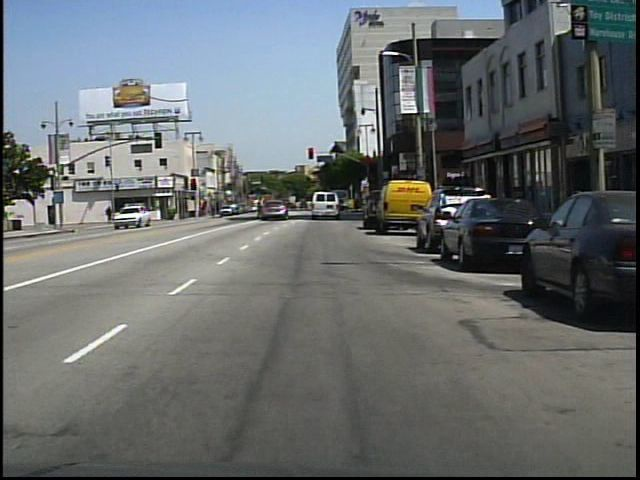person: (252, 193, 267, 222), (105, 204, 114, 226)
